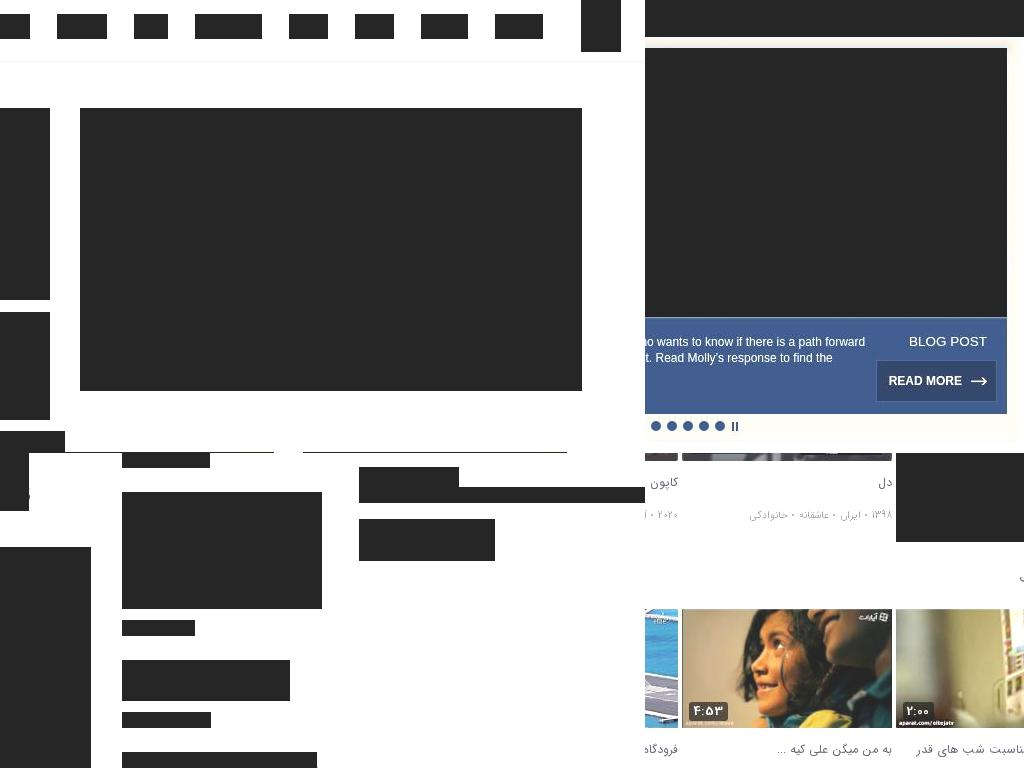button: (682, 608, 892, 729), (896, 608, 1024, 729), (850, 0, 1024, 37), (359, 519, 495, 561), (701, 0, 850, 37), (875, 359, 998, 402), (696, 471, 892, 493), (696, 738, 892, 760), (892, 333, 997, 360), (910, 471, 1024, 493), (910, 738, 1024, 760), (581, 0, 621, 52), (645, 0, 701, 37), (195, 14, 262, 39), (57, 14, 107, 39), (495, 14, 543, 39), (421, 14, 468, 39), (355, 14, 394, 39), (289, 14, 328, 39), (134, 14, 168, 39), (0, 14, 30, 39), (651, 420, 662, 431), (667, 420, 678, 431), (683, 420, 694, 431), (699, 420, 710, 431), (715, 420, 726, 431), (731, 420, 742, 431)
heading: (122, 492, 322, 609), (645, 0, 1024, 37), (645, 281, 997, 303), (122, 660, 290, 701), (122, 752, 317, 768), (777, 739, 892, 759), (917, 739, 1024, 759), (650, 472, 678, 492), (878, 472, 892, 492)
image: (80, 108, 582, 391), (645, 48, 1007, 317), (682, 608, 892, 729), (0, 547, 91, 768), (682, 453, 892, 542), (896, 608, 1024, 729), (692, 453, 882, 515), (581, 0, 621, 52)
link: (122, 712, 211, 728), (122, 453, 210, 468), (122, 620, 195, 636)
text: (645, 333, 997, 382), (359, 487, 645, 503), (870, 5, 1024, 25), (721, 5, 831, 25), (359, 467, 459, 487), (682, 420, 769, 435), (689, 702, 728, 722), (645, 5, 682, 25), (749, 507, 788, 523), (903, 702, 934, 722), (791, 507, 829, 523), (957, 507, 993, 523), (645, 420, 683, 435), (832, 507, 861, 523), (996, 507, 1024, 523), (864, 507, 892, 523), (650, 507, 678, 523)
